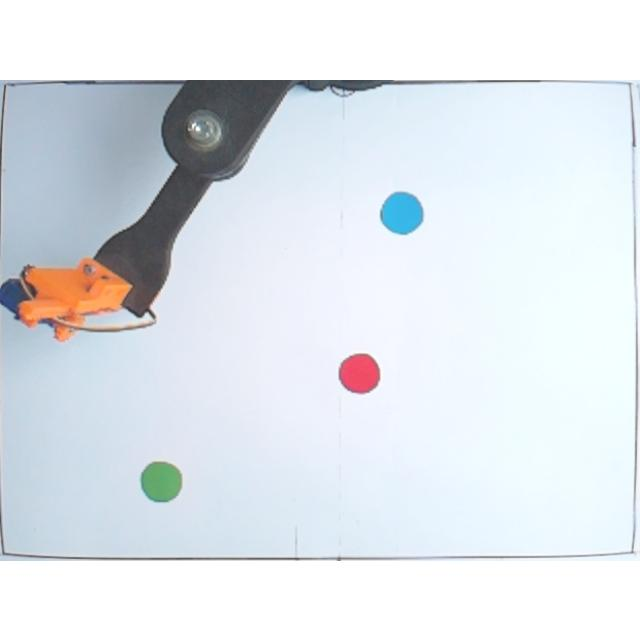blueCircle: (378, 188, 424, 236)
greenCircle: (138, 459, 185, 501)
redCircle: (338, 348, 382, 394)
